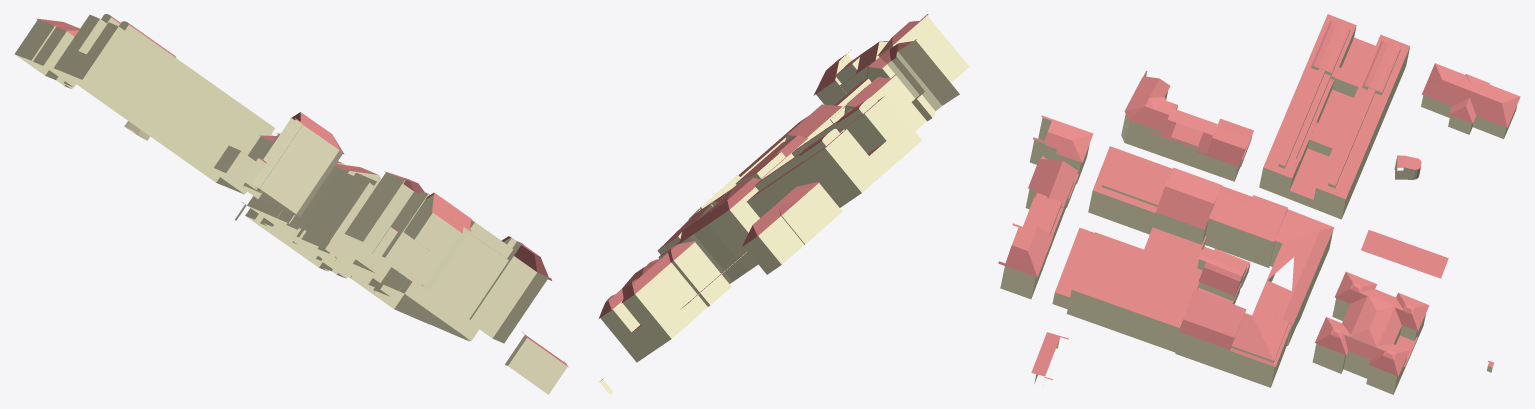
File: tile_087.glb
3 views of the same model, side by side, from view 1: azimuth 30°, elevation 25°; view 2: azimuth 150°, elevation 25°; view 3: azimuth 270°, elevation 25° (orthographic). The views are drawn at different scales.
Parts seen in each view (by area): view 1: Batched_Building_ID_C77E8566-424D-4F59-BA3C-BFD9C0E74F5B, Batched_Building_ID_B41FD425-FDBB-4C26-BC1B-9FDA82997953; view 2: Batched_Building_ID_C77E8566-424D-4F59-BA3C-BFD9C0E74F5B, Batched_Building_ID_B41FD425-FDBB-4C26-BC1B-9FDA82997953; view 3: Batched_Building_ID_B41FD425-FDBB-4C26-BC1B-9FDA82997953, Batched_Building_ID_C77E8566-424D-4F59-BA3C-BFD9C0E74F5B.
Boxes of the visible parts, x1,y1,x2,y2 form: Batched_Building_ID_C77E8566-424D-4F59-BA3C-BFD9C0E74F5B: [14, 14, 567, 394]; Batched_Building_ID_B41FD425-FDBB-4C26-BC1B-9FDA82997953: [37, 16, 568, 366]; Batched_Building_ID_C77E8566-424D-4F59-BA3C-BFD9C0E74F5B: [599, 15, 969, 394]; Batched_Building_ID_B41FD425-FDBB-4C26-BC1B-9FDA82997953: [598, 14, 928, 380]; Batched_Building_ID_B41FD425-FDBB-4C26-BC1B-9FDA82997953: [998, 14, 1520, 380]; Batched_Building_ID_C77E8566-424D-4F59-BA3C-BFD9C0E74F5B: [1000, 26, 1517, 394].
Size of the model in its own units: 111 by 107 by 180.
